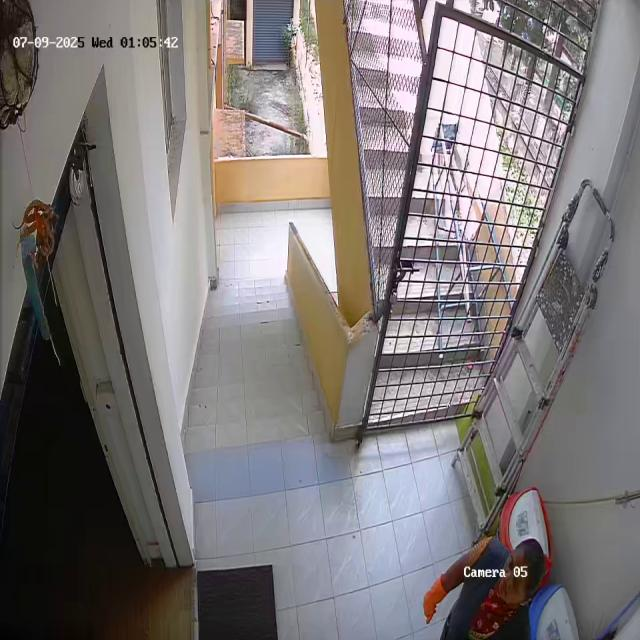person: (437, 531, 538, 640)
